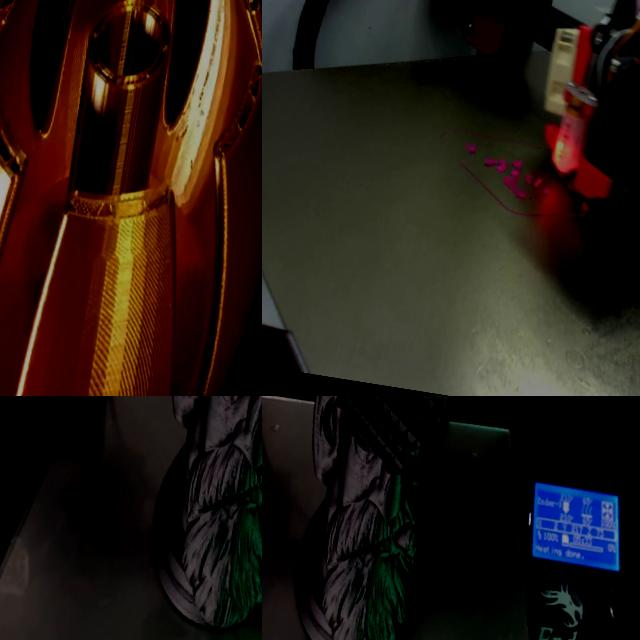spaghetti: (461, 160, 587, 218), (503, 160, 527, 199), (485, 158, 508, 173), (525, 174, 543, 188), (465, 145, 476, 153)
